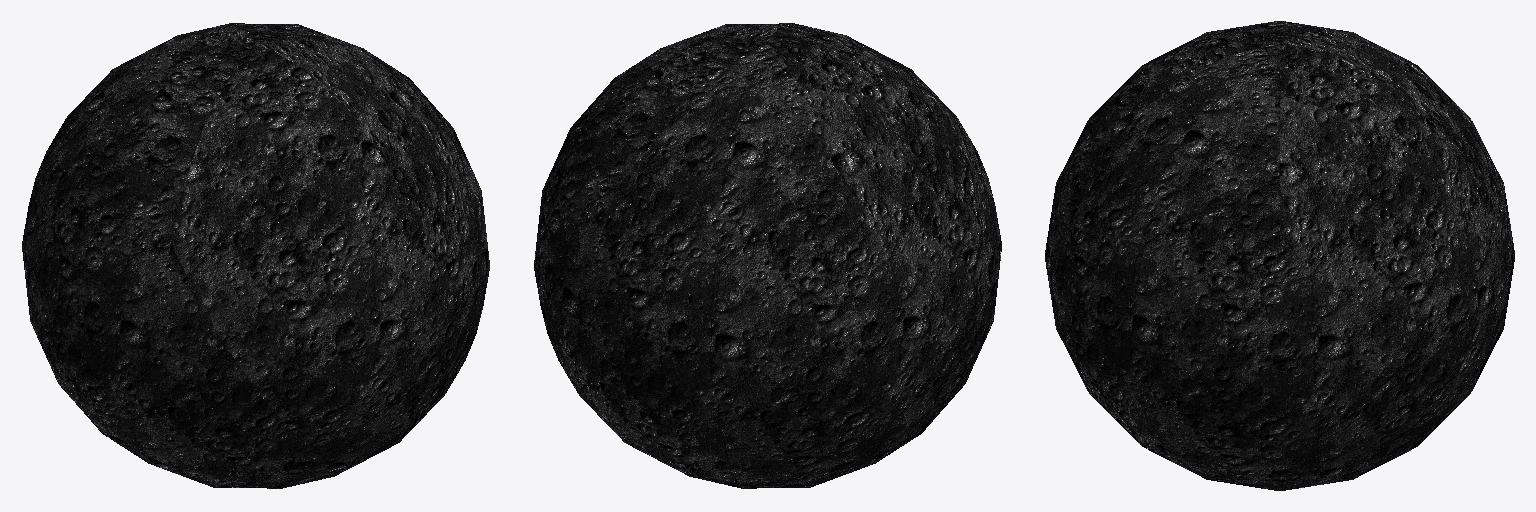
3 renders of one model, left to right at view 1: azimuth 30°, elevation 25°; view 2: azimuth 150°, elevation 25°; view 3: azimuth 270°, elevation 25°, orthographic.
Parts seen in each view (by area): view 1: Icosphere; view 2: Icosphere; view 3: Icosphere.
Boxes of the visible parts, x1=… form: Icosphere: x1=22, y1=23, x2=489, y2=488; Icosphere: x1=534, y1=23, x2=1001, y2=488; Icosphere: x1=1045, y1=21, x2=1514, y2=490.
Size of the model in its own units: 14 by 14 by 14.
Materials: 1 (1 with a texture image).